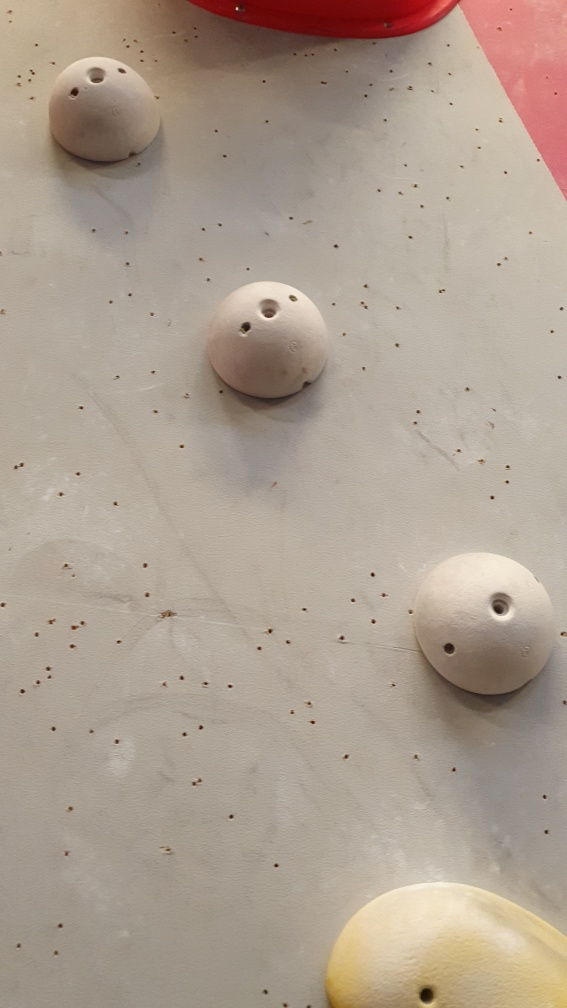Sloper: (408, 551, 557, 699), (204, 277, 332, 402), (47, 56, 165, 167)
